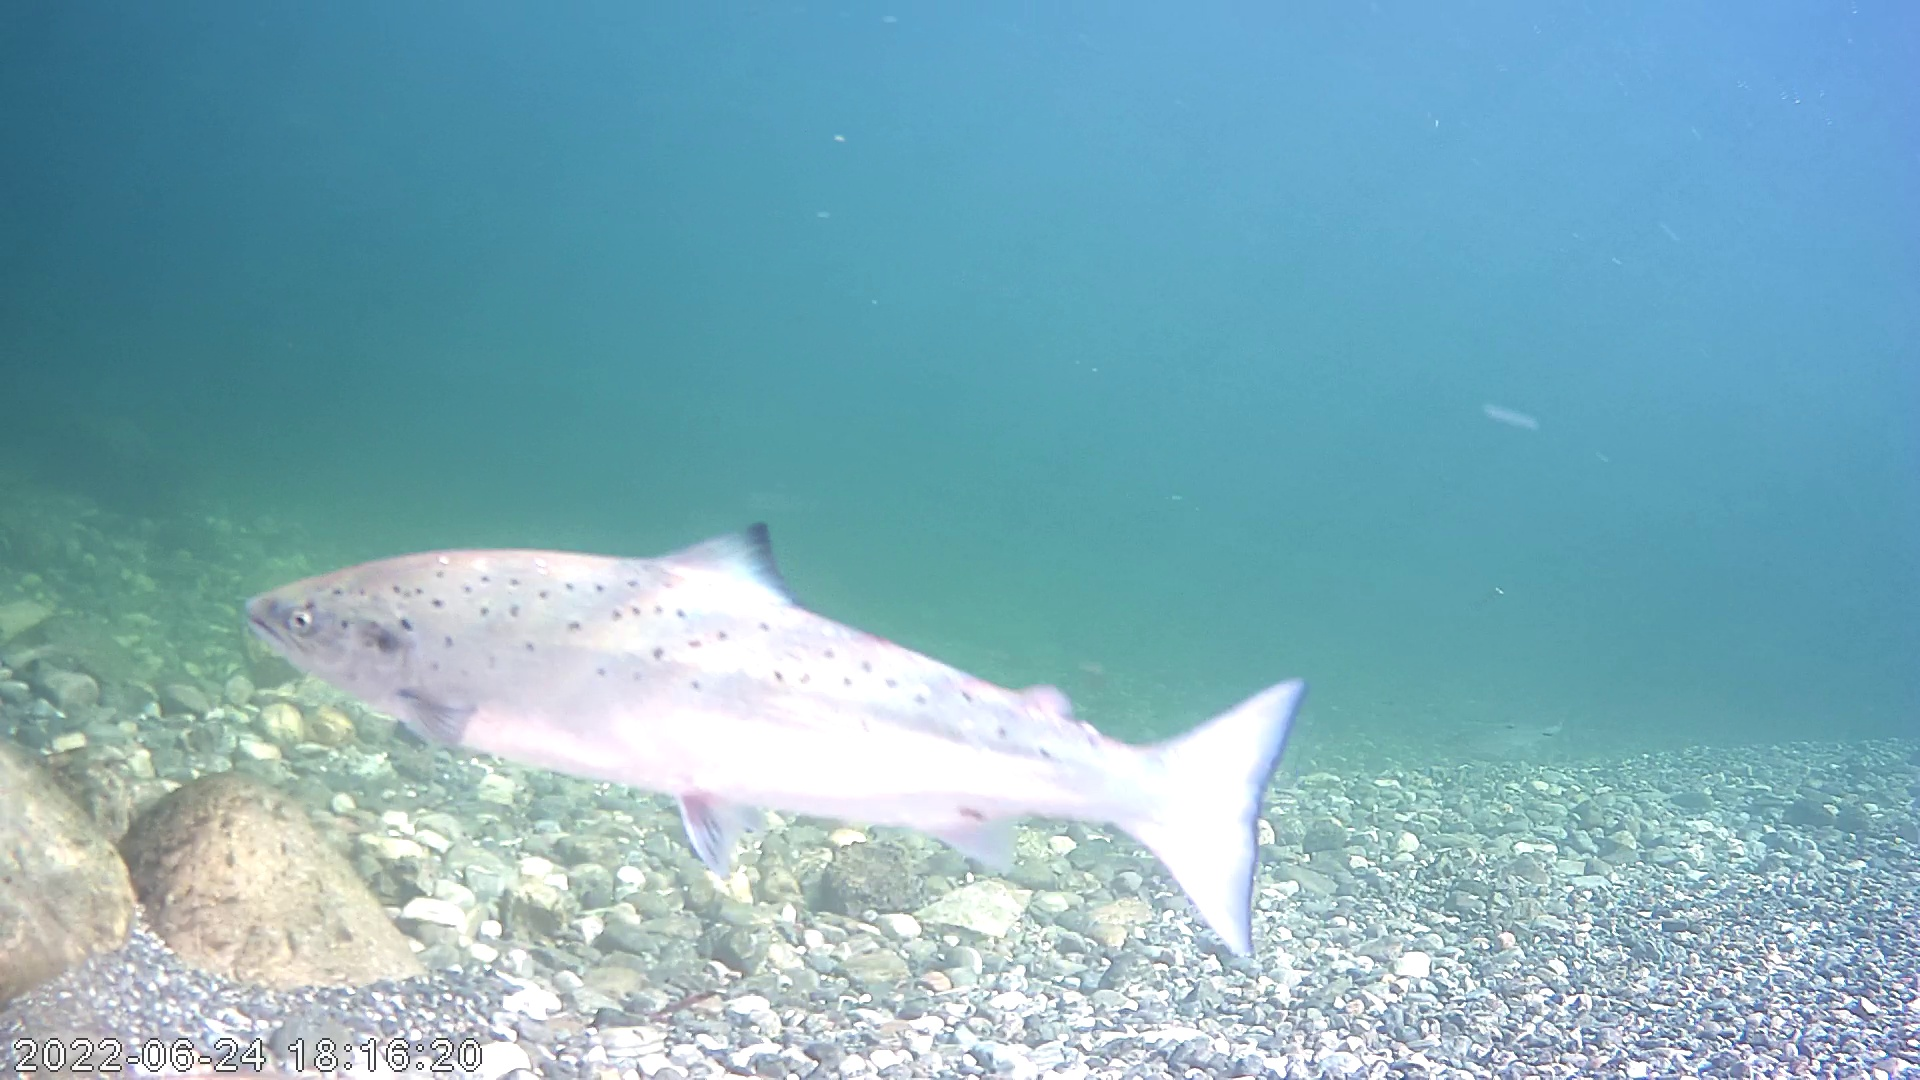salmon: (239, 516, 1311, 963)
